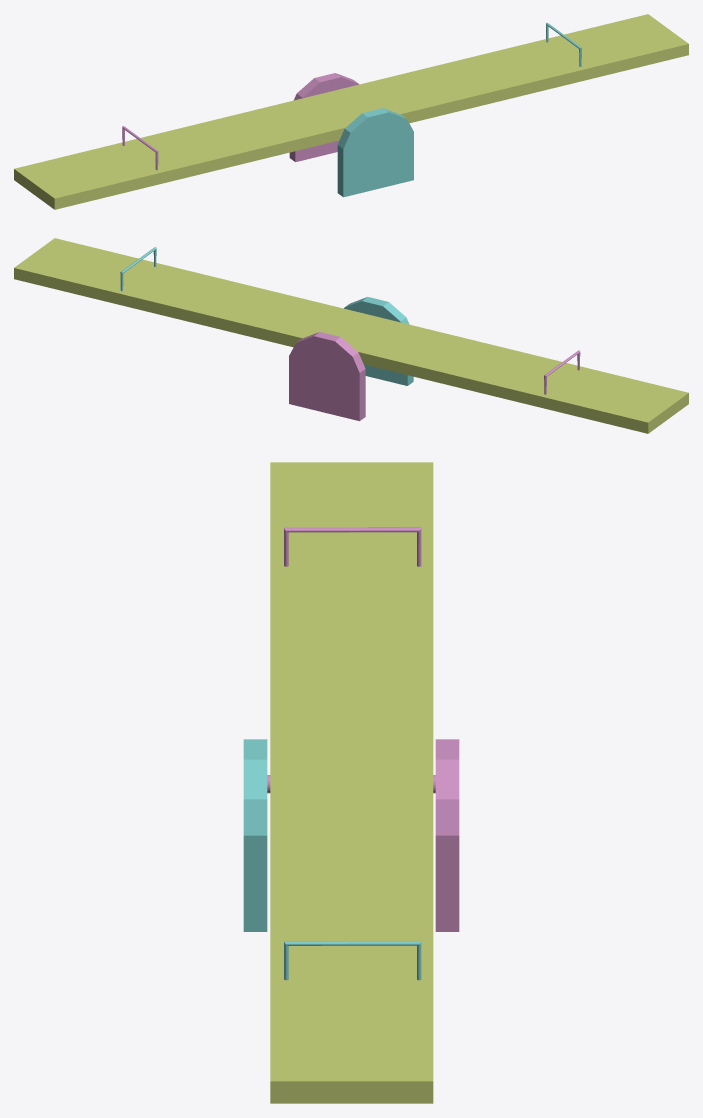
The model's file is balanza 1.fbx.
3 views of the same model, one above another, from view 1: azimuth 30°, elevation 25°; view 2: azimuth 150°, elevation 25°; view 3: azimuth 270°, elevation 25° (orthographic). The views are drawn at different scales.
Parts seen in each view (by area): view 1: Balancin; view 2: Balancin; view 3: Balancin.
Boxes of the visible parts, x1,y1,x2,y2 form: Balancin: (14,14,688,209); Balancin: (14,238,688,433); Balancin: (243,462,459,1103).
Bounding box in the file's own units: 1796 × 221 × 264.
